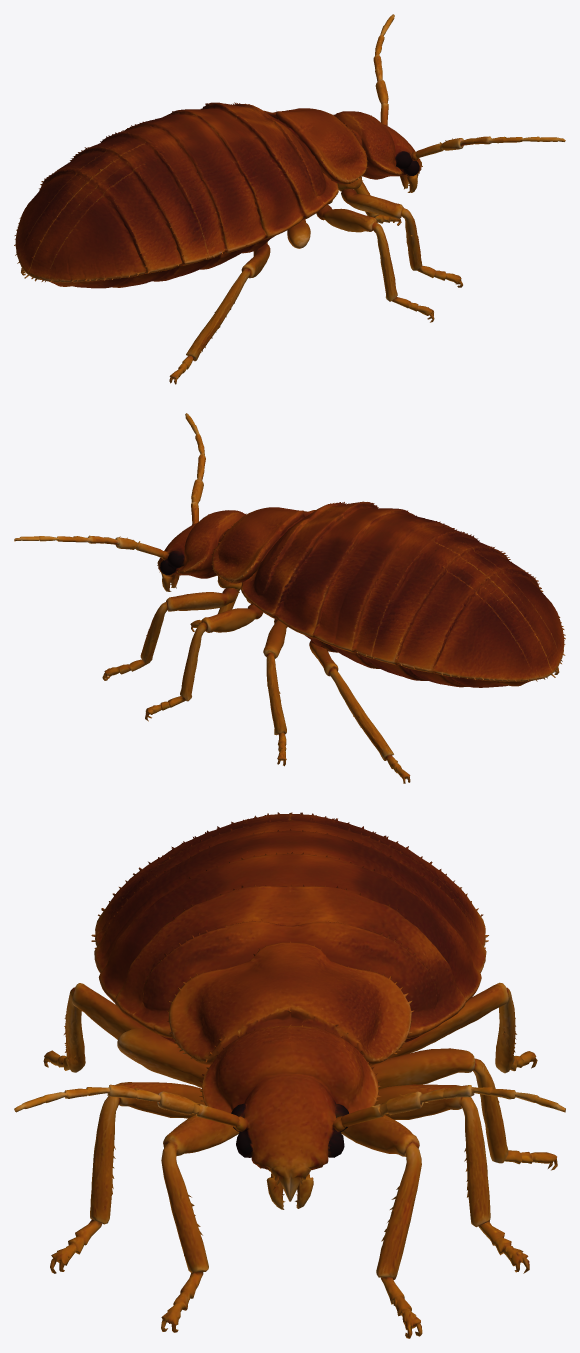
File: bedbug.glb
3 renders of one model, top to bottom at view 1: azimuth 30°, elevation 25°; view 2: azimuth 150°, elevation 25°; view 3: azimuth 270°, elevation 25°, orthographic. The views are drawn at different scales.
Parts seen in each view (by area): view 1: tripo_node_0344e948-a4df-4838-bd0f-c1cea6110b8f; view 2: tripo_node_0344e948-a4df-4838-bd0f-c1cea6110b8f; view 3: tripo_node_0344e948-a4df-4838-bd0f-c1cea6110b8f.
Part boxes in pixels (x1,y1,x2,y2): tripo_node_0344e948-a4df-4838-bd0f-c1cea6110b8f: [14, 14, 565, 384]; tripo_node_0344e948-a4df-4838-bd0f-c1cea6110b8f: [14, 413, 565, 783]; tripo_node_0344e948-a4df-4838-bd0f-c1cea6110b8f: [14, 812, 565, 1338].
Size of the model in its own units: 0.9857 by 0.3987 by 0.6457.
1 material, 1 textured.
